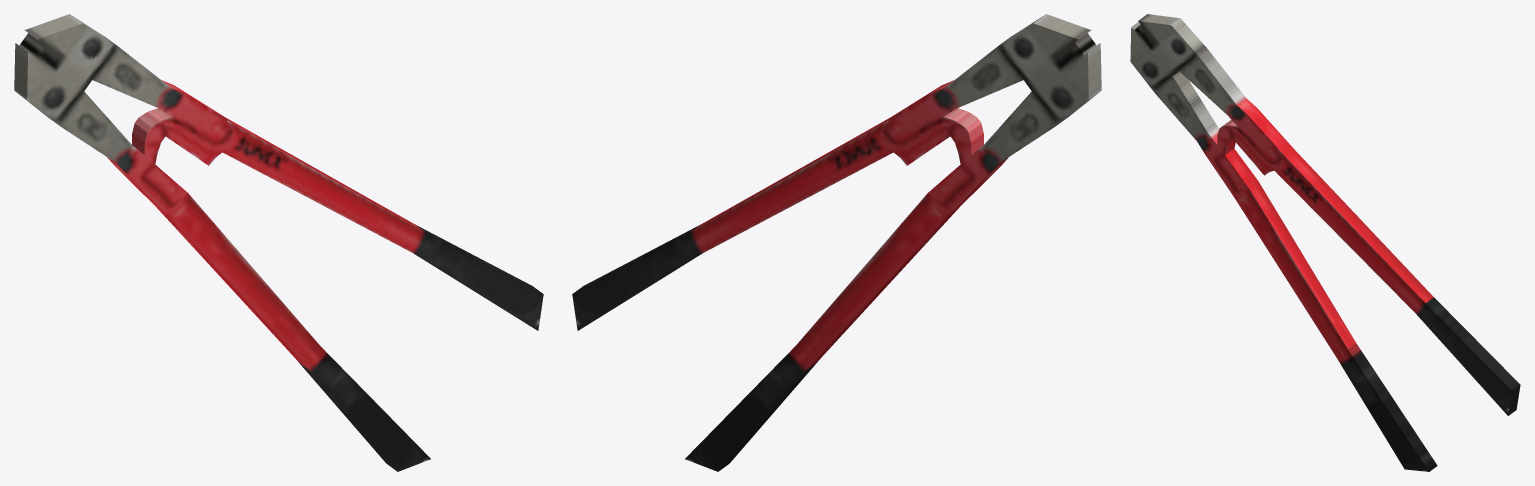
File: bolt_cutters.fbx
3 views of the same model, side by side, from view 1: azimuth 30°, elevation 25°; view 2: azimuth 150°, elevation 25°; view 3: azimuth 330°, elevation 25° (orthographic). The views are drawn at different scales.
Parts seen in each view (by area): view 1: bolt_cutters; view 2: bolt_cutters; view 3: bolt_cutters.
Boxes of the visible parts, left/top/right/bottom form: bolt_cutters: left=14, top=14, right=543, bottom=471; bolt_cutters: left=572, top=14, right=1101, bottom=471; bolt_cutters: left=1130, top=14, right=1520, bottom=471.
Bounding box in the file's own units: 16.7 × 16.23 × 0.7176.
1 material, 1 textured.
